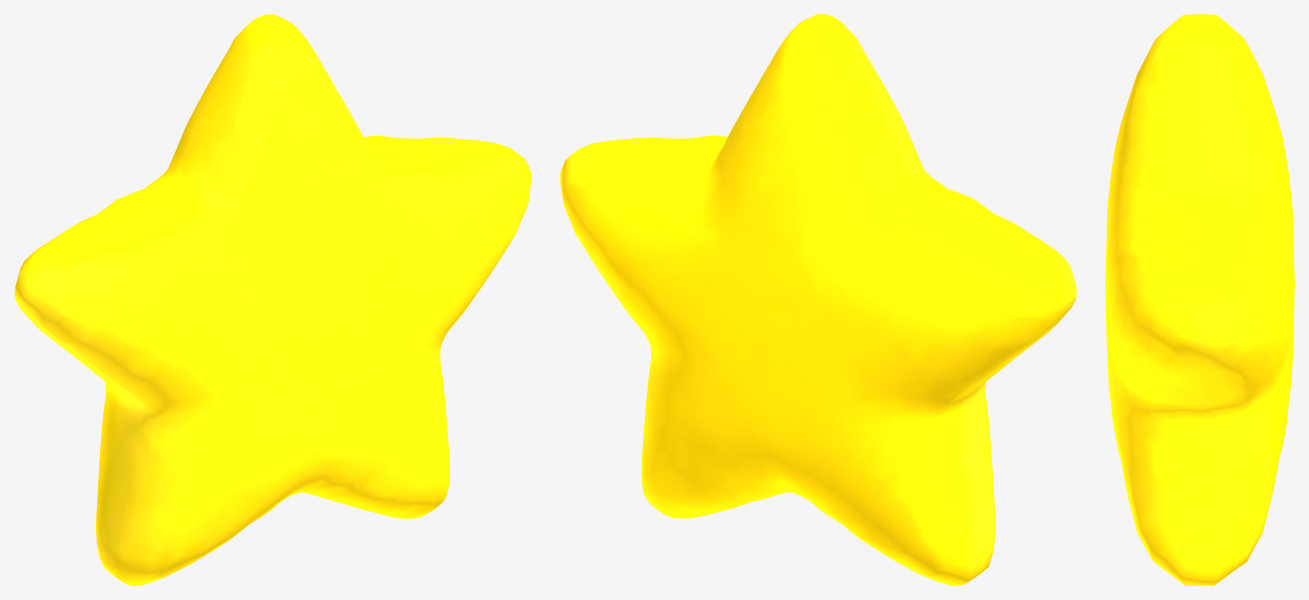
File: star.glb
3 views of the same model, side by side, from view 1: azimuth 30°, elevation 25°; view 2: azimuth 150°, elevation 25°; view 3: azimuth 270°, elevation 25° (orthographic). The views are drawn at different scales.
Parts seen in each view (by area): view 1: Mesh_0; view 2: Mesh_0; view 3: Mesh_0.
Boxes of the visible parts, x1=… form: Mesh_0: x1=14, y1=14, x2=531, y2=585; Mesh_0: x1=560, y1=14, x2=1076, y2=585; Mesh_0: x1=1105, y1=14, x2=1294, y2=585.
Bounding box in the file's own units: 1.91 × 1.9 × 0.6505.
1 material, 1 textured.
